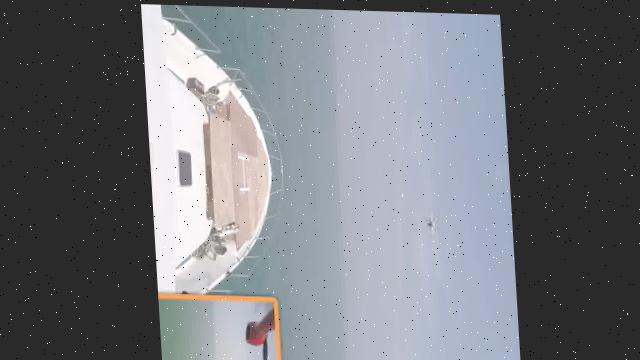drone: (417, 202, 447, 238)
